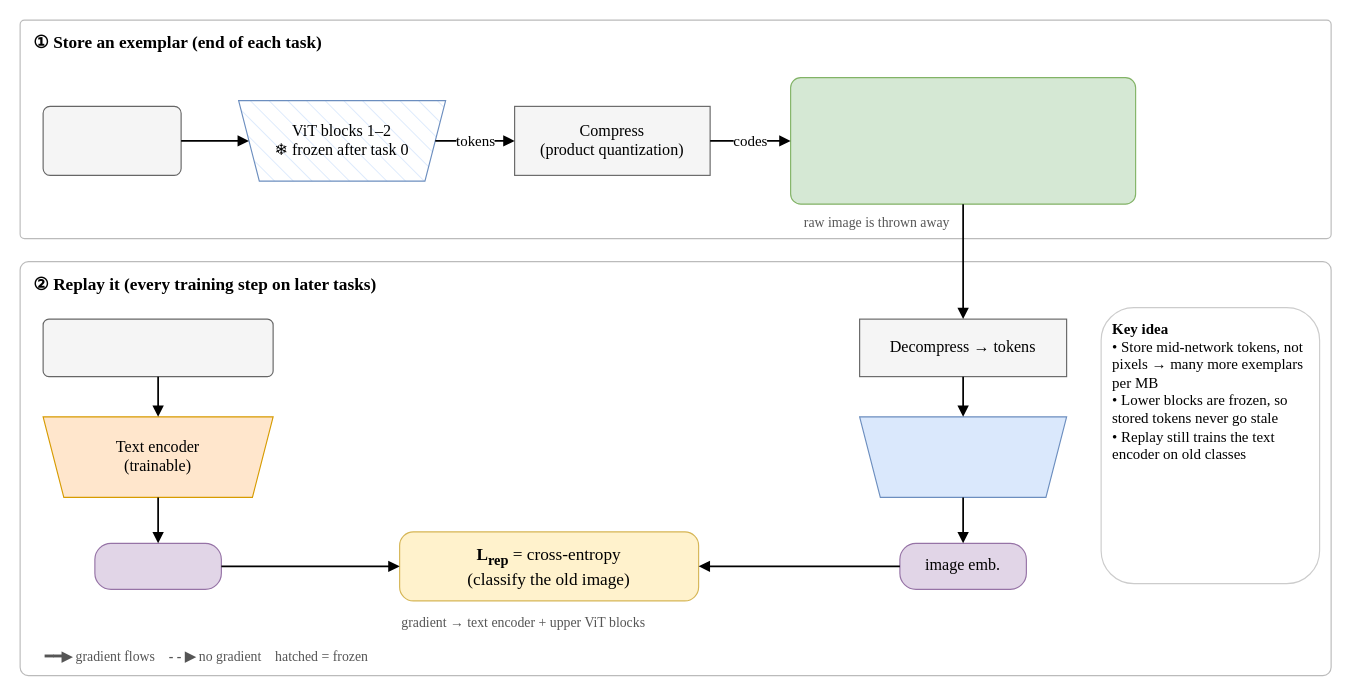
Image size: 1351x696. Some labels were removed from this diagram. The box of each missing label's shape, as (x1, y1, x2, y2) in pixels:
"a photo of a {old class}": (42, 318, 273, 377)
Image x: (42, 105, 181, 175)
Replay buffer compressed tokens 25 KB vs 602 KB per image (24× smaller): (789, 76, 1136, 204)
text emb.: (94, 542, 221, 589)
ViT blocks 3–12 (trainable): (858, 416, 1067, 497)
